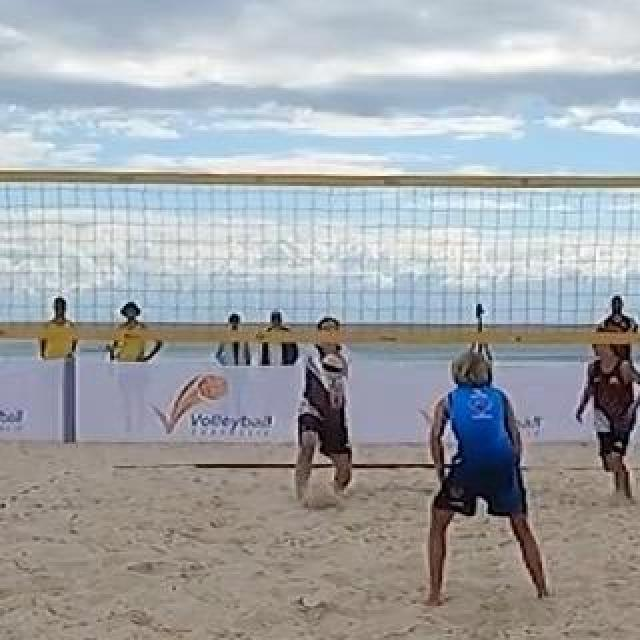volleyball: (321, 352, 347, 378)
